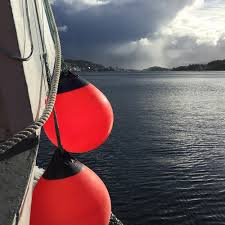buoy: (30, 167, 113, 225), (44, 83, 113, 151)
